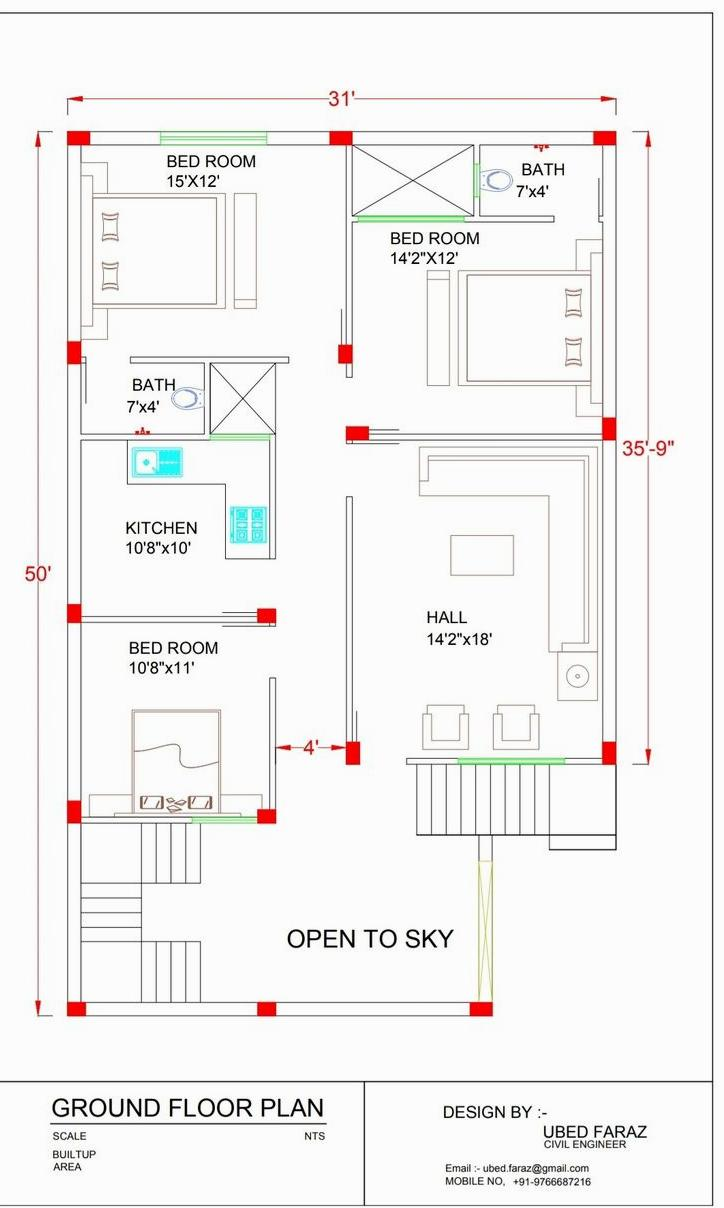Blueprint: (57, 122, 632, 1026)
wall: (603, 440, 617, 742), (603, 145, 618, 418), (353, 130, 594, 146), (66, 363, 82, 604), (274, 1000, 470, 1017), (66, 144, 82, 342), (66, 822, 83, 1003), (66, 624, 83, 802), (86, 1001, 259, 1017), (344, 496, 354, 742), (369, 432, 604, 442), (344, 144, 354, 345), (83, 615, 259, 623), (88, 131, 162, 147), (130, 356, 288, 363), (268, 676, 276, 809), (80, 434, 212, 441), (266, 130, 330, 144), (80, 816, 192, 824), (270, 433, 276, 560), (202, 362, 212, 434), (406, 756, 462, 766), (478, 834, 494, 862), (564, 756, 604, 766)
